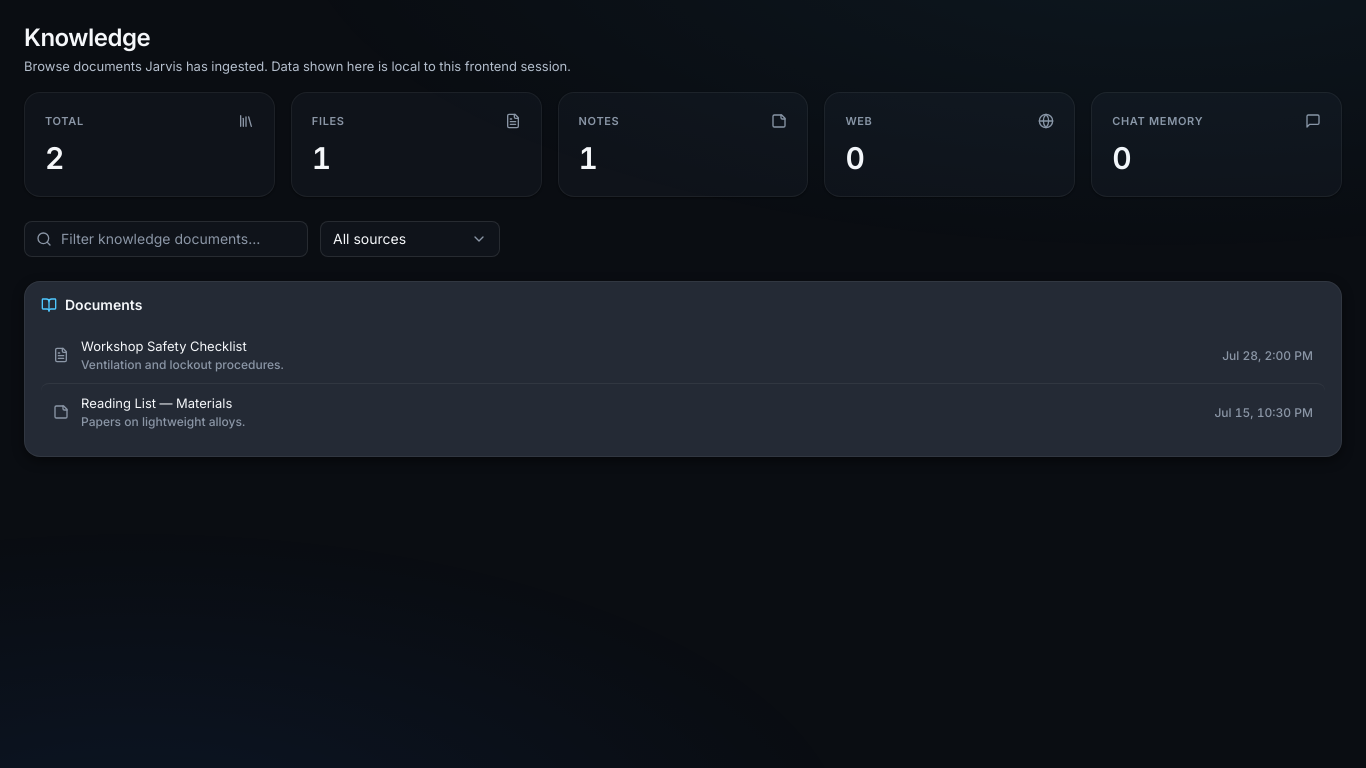
KnowledgePage list + detail › opens the detail drawer with full content when a row is clicked
Click the button with test id "knowledge-item-know-a": (164, 346) [41,328,1325,383]
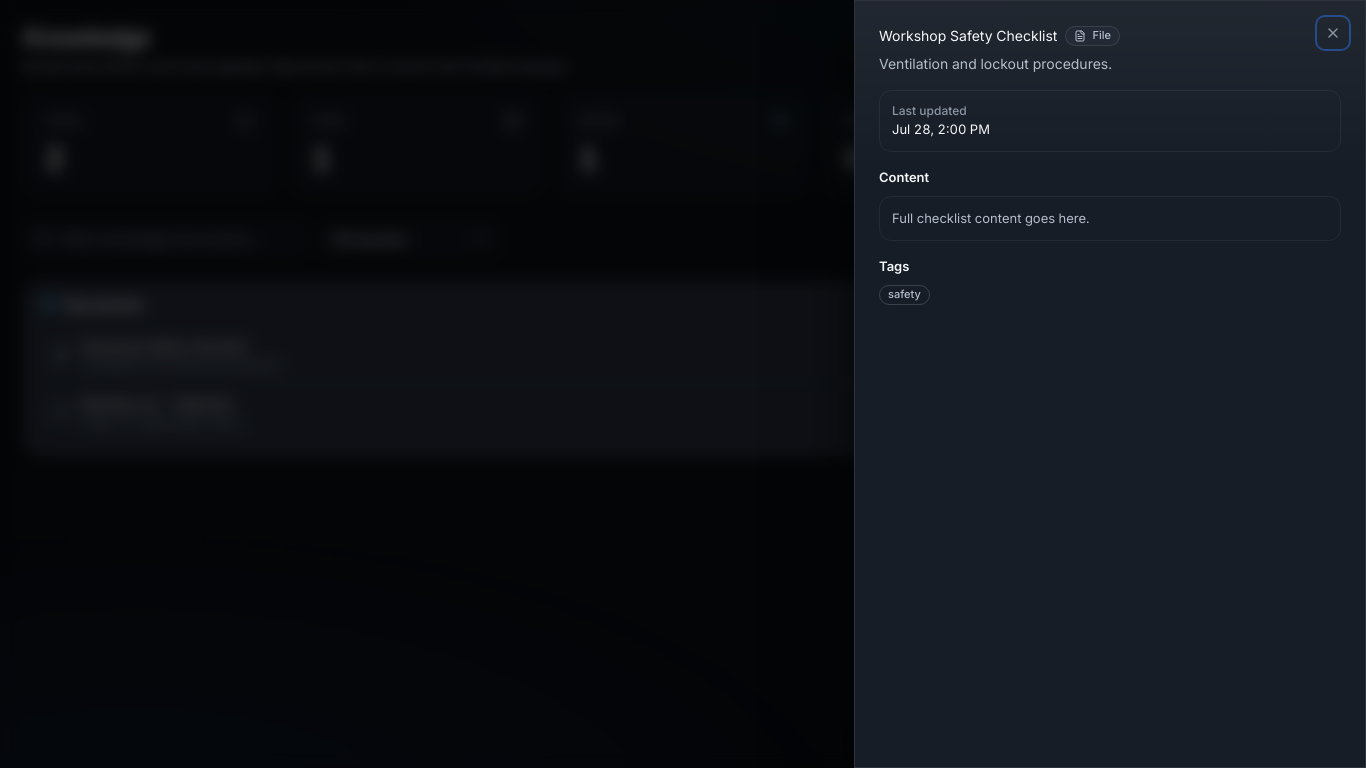
Now the dialog with test id "knowledge-detail-drawer" shows "Full checklist content goes here.", box [892,210,1090,226]
